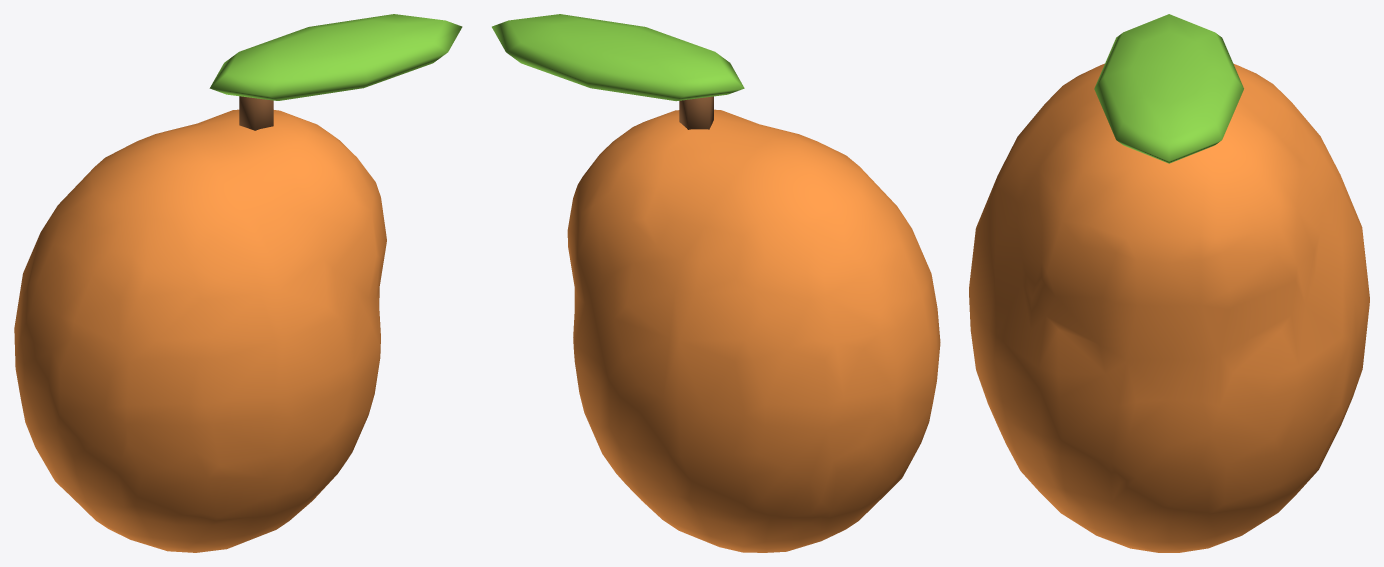
The model's file is mango.glb.
The picture shows the model from 3 angles, left to right: view 1: azimuth 30°, elevation 25°; view 2: azimuth 150°, elevation 25°; view 3: azimuth 270°, elevation 25°; orthographic projection. The views are drawn at different scales.
Visible parts, largest first — view 1: mango; view 2: mango; view 3: mango.
Part boxes in pixels (x1,y1,x2,y2): mango: (14, 14, 462, 552); mango: (492, 14, 940, 552); mango: (969, 14, 1369, 552).
Size of the model in its own units: 0.2163 by 0.2262 by 0.1497.
